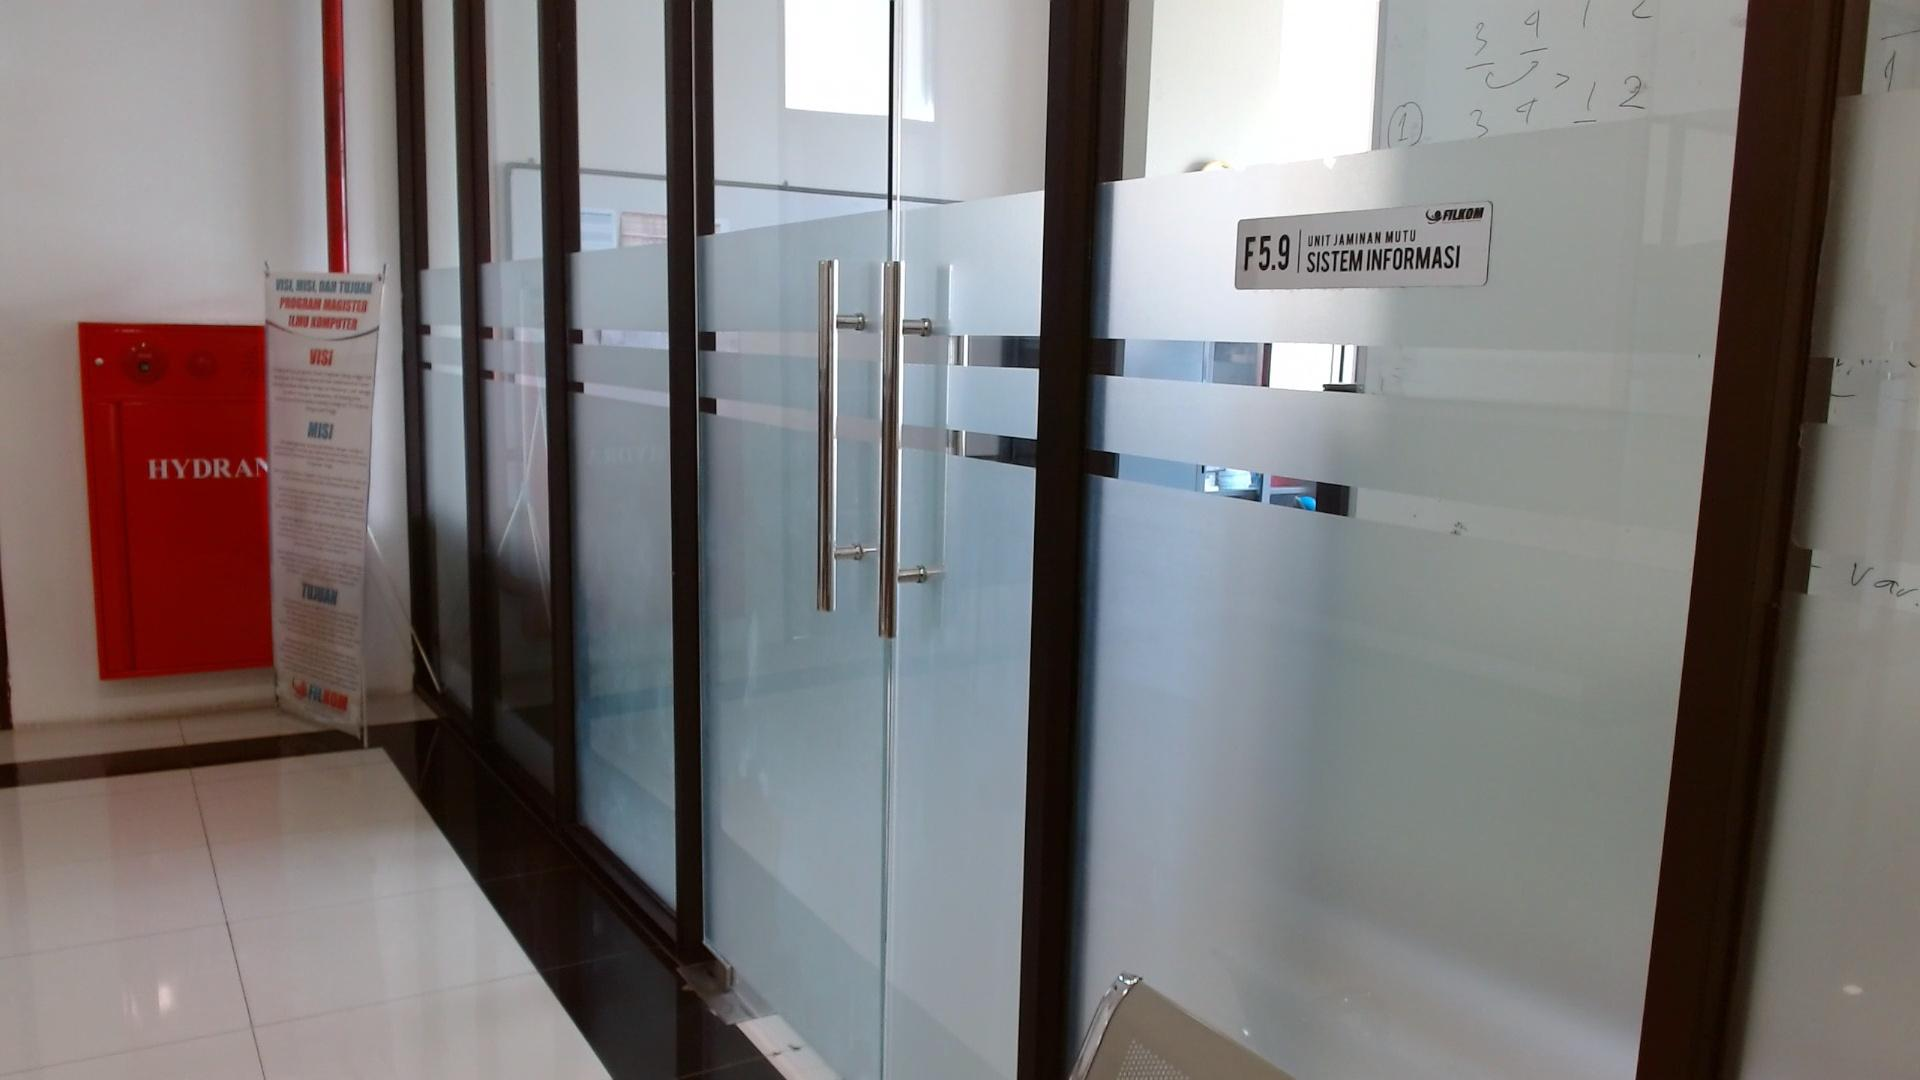plate: (1234, 200, 1493, 290)
